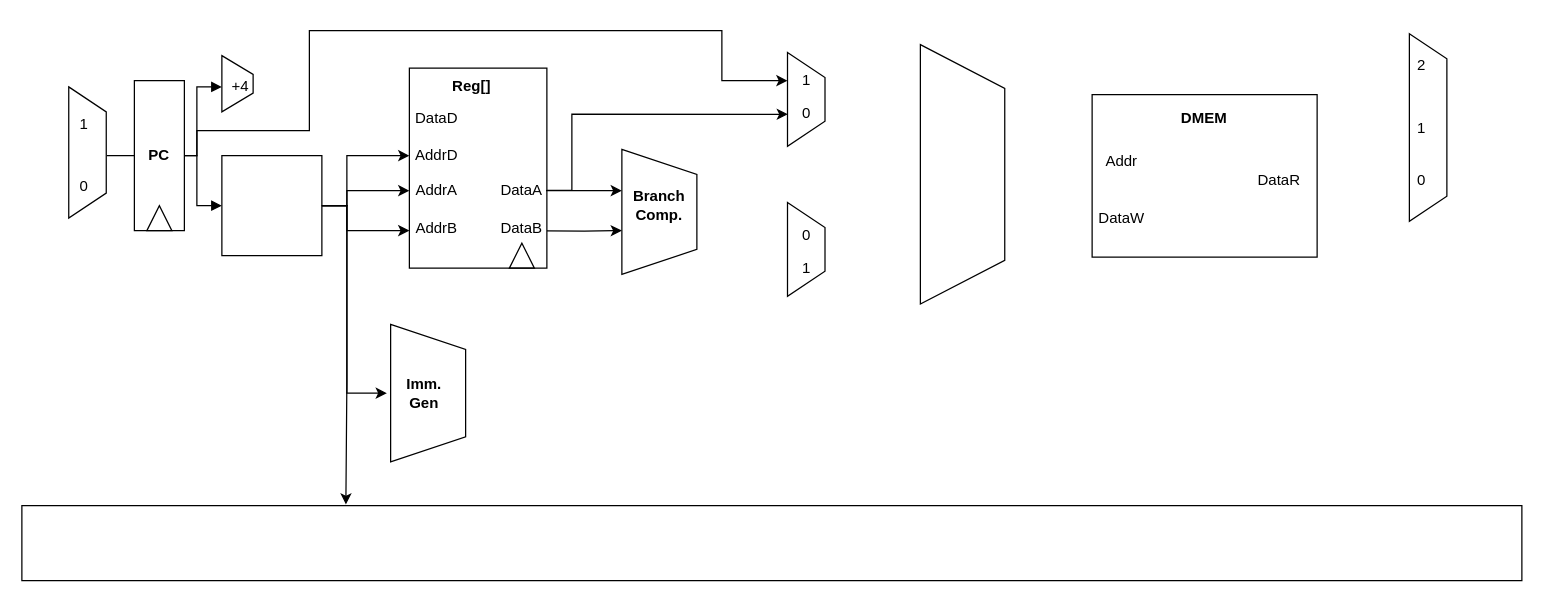
Some shapes in this 1544 by 603 pixel diagram are drawn without their labels. Each missing label, with the centre of its shape:
"ALU" belongs at [962,173].
"IMEM" belongs at [271,205].
